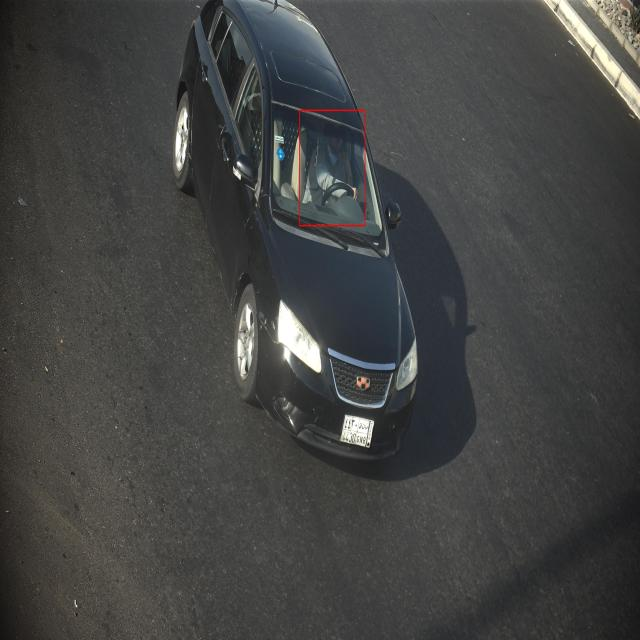windshield: (266, 98, 389, 260)
